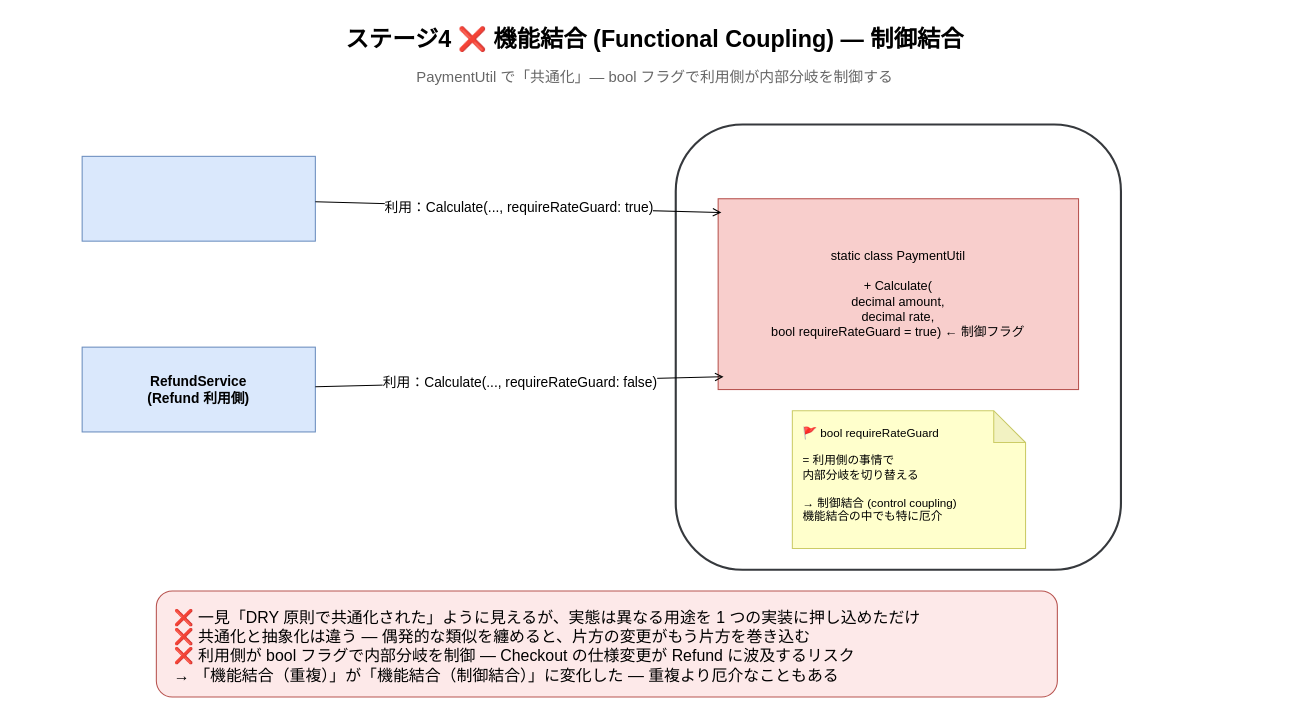
The diagram is 1308 pixels wide and 715 high, and some of its shapes have lost their labels. Here are the shapes that lost their labels. From the top down, the box of each, then its label:
(81, 155, 315, 241): OrderController (Checkout 利用側)
(674, 123, 1121, 570): Shared モジュール (PaymentUtil)
